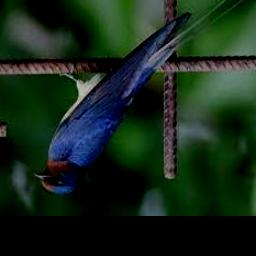Swallow: (34, 0, 256, 194)
